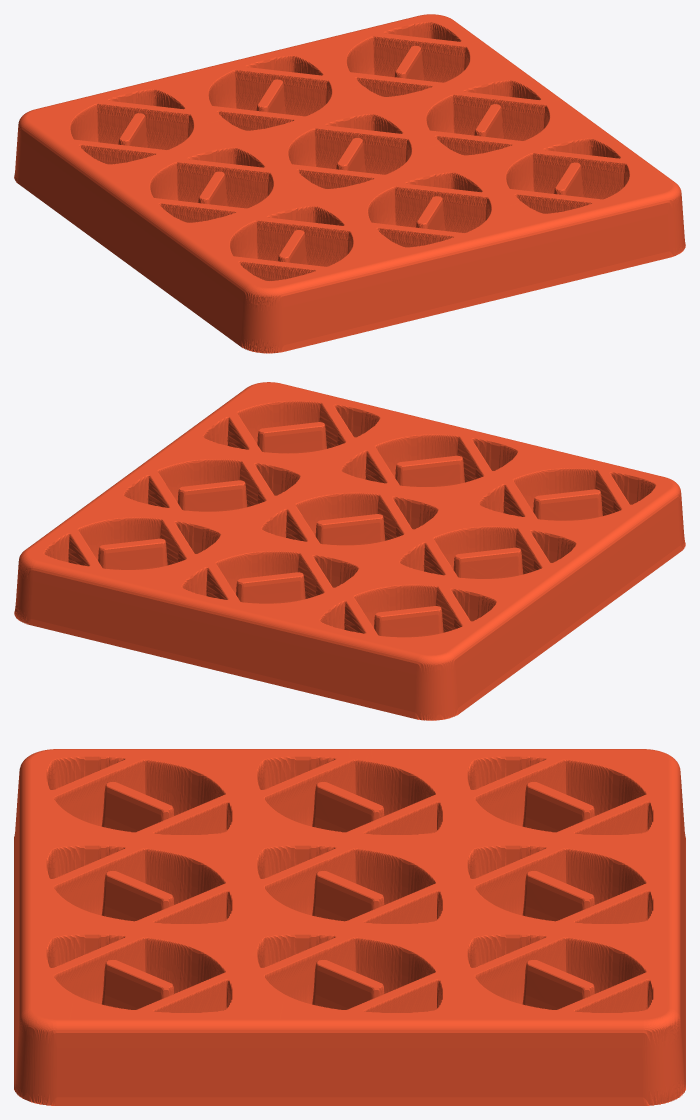
The model's file is mold.glb.
3 renders of one model, top to bottom at view 1: azimuth 30°, elevation 25°; view 2: azimuth 150°, elevation 25°; view 3: azimuth 270°, elevation 25°, orthographic. The views are drawn at different scales.
Parts seen in each view (by area): view 1: geometry_0; view 2: geometry_0; view 3: geometry_0.
Boxes of the visible parts, x1,y1,x2,y2 form: geometry_0: [14, 14, 685, 353]; geometry_0: [14, 382, 685, 720]; geometry_0: [14, 749, 685, 1105].
Bounding box in the file's own units: 0.1402 × 0.0182 × 0.1402.
